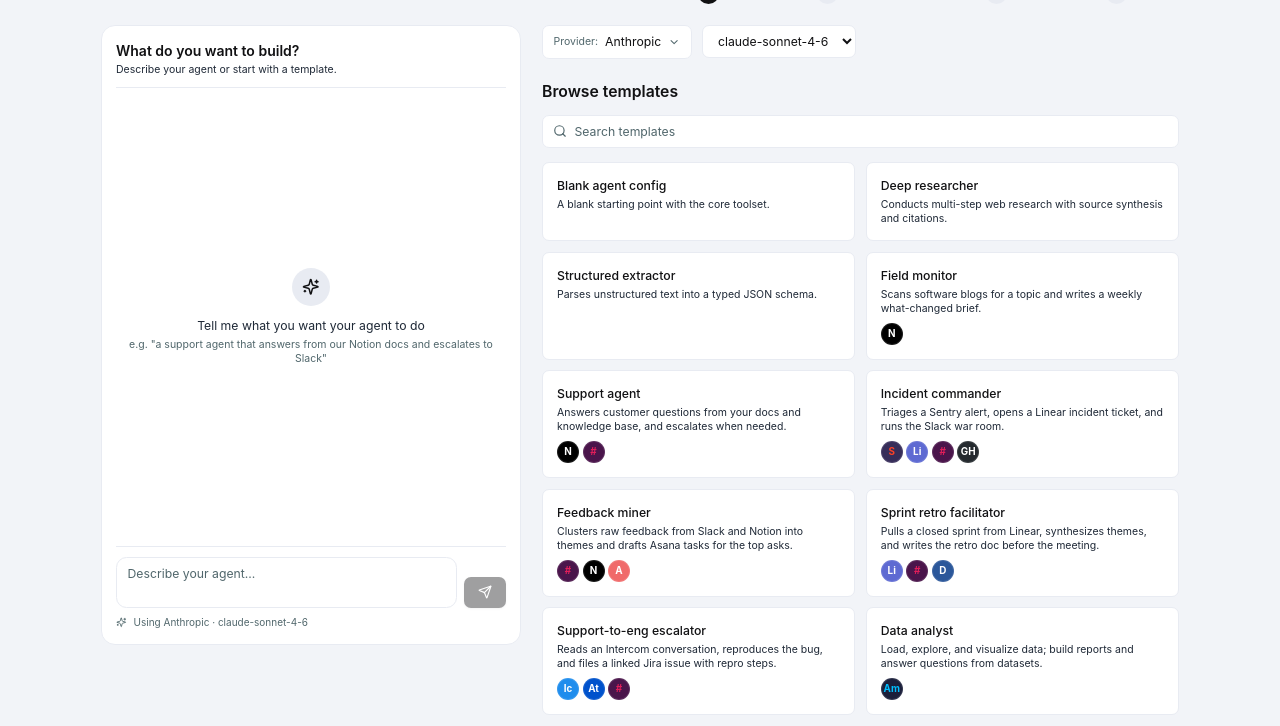
Test: QuickstartPage › shows template preview when clicking a template
The image size is (1280, 726).
(page scrolled)
What coordinates should you click on to do the following:
click the text "Blank agent config"
I would click on:
 (612, 186)
Its box is [557, 177, 666, 194].
(page scrolled)
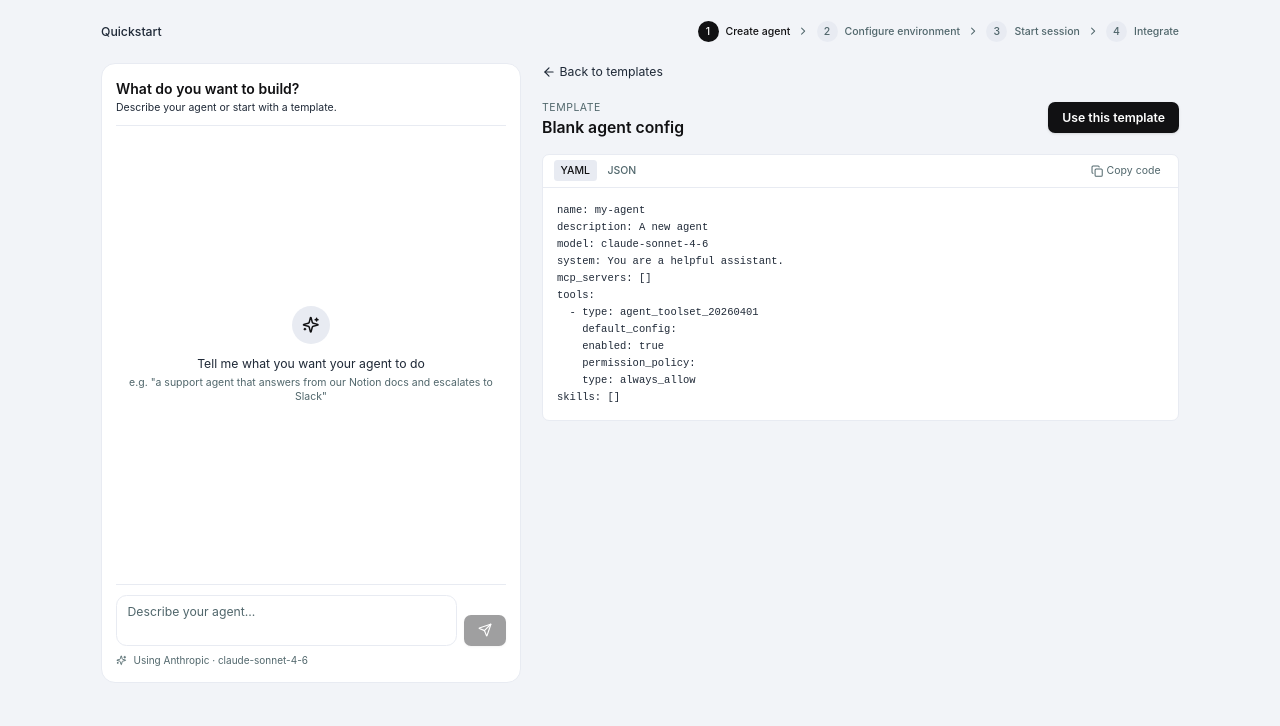
Now the button "Back to templates" is shown, box [542, 63, 663, 80]
Now the button "Use this template" is shown, box [1048, 102, 1179, 133]
Now the text "Template" is shown, box [542, 100, 601, 114]
